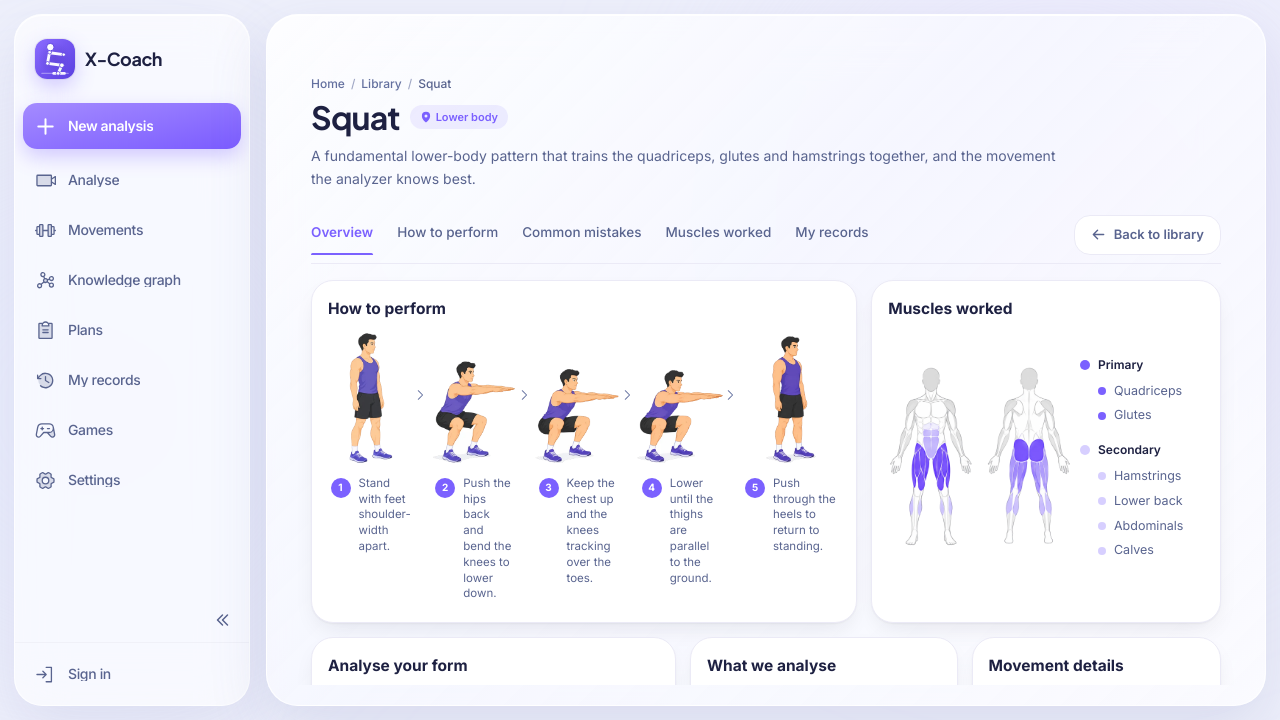
Test: MovementDetail — common mistakes › cards the faults this movement's DETECTOR reports, not the graph's fault index
This screenshot has width=1280, height=720.
Click the tab "Common mistakes".
click(582, 239)  # box [522,222,642,255]
(page scrolled)
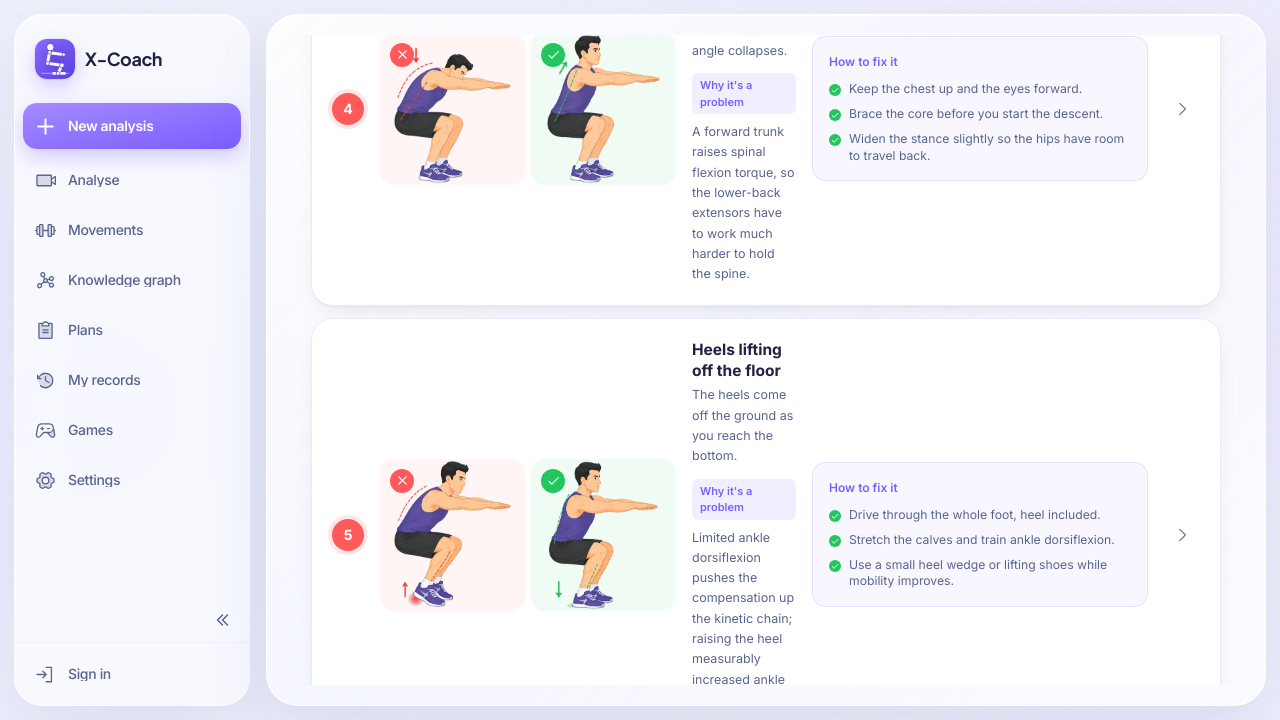
Now the heading "Heels lifting off the floor" is shown, box [692,339,796,381]
